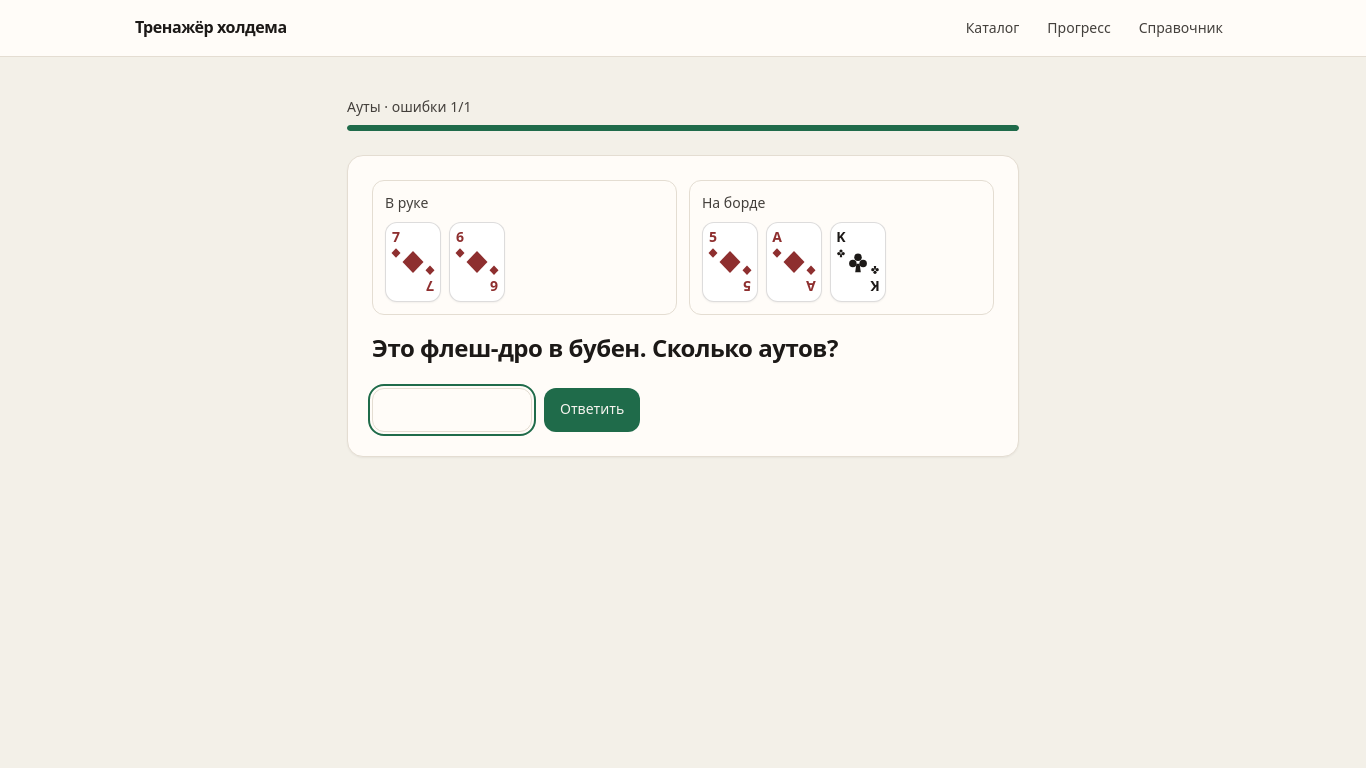
ошибка из очереди остаётся на экране после промаха
Type "1" into the field named "Ответ".
click(452, 410); type("1")  # box [372,388,532,432]
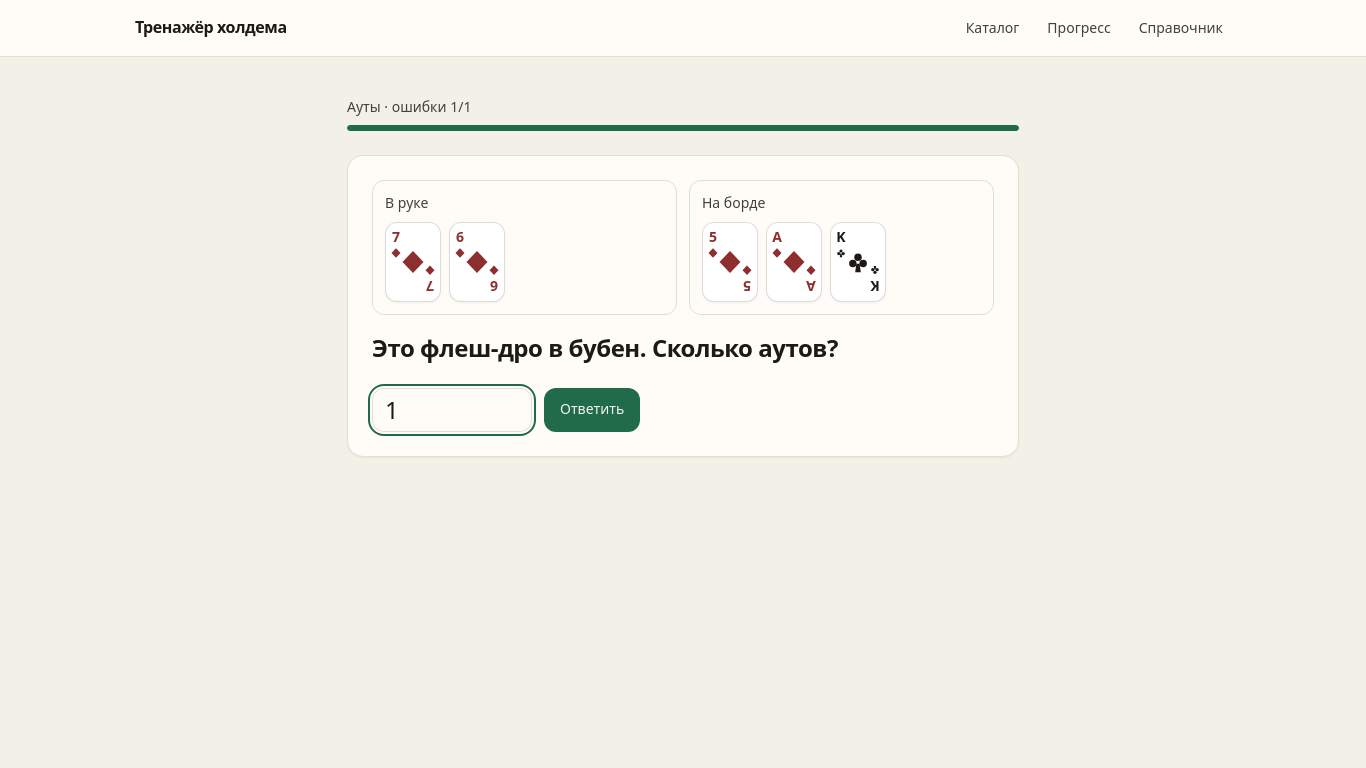
Submit the form labelled "Ответ", box [372,388,640,432]
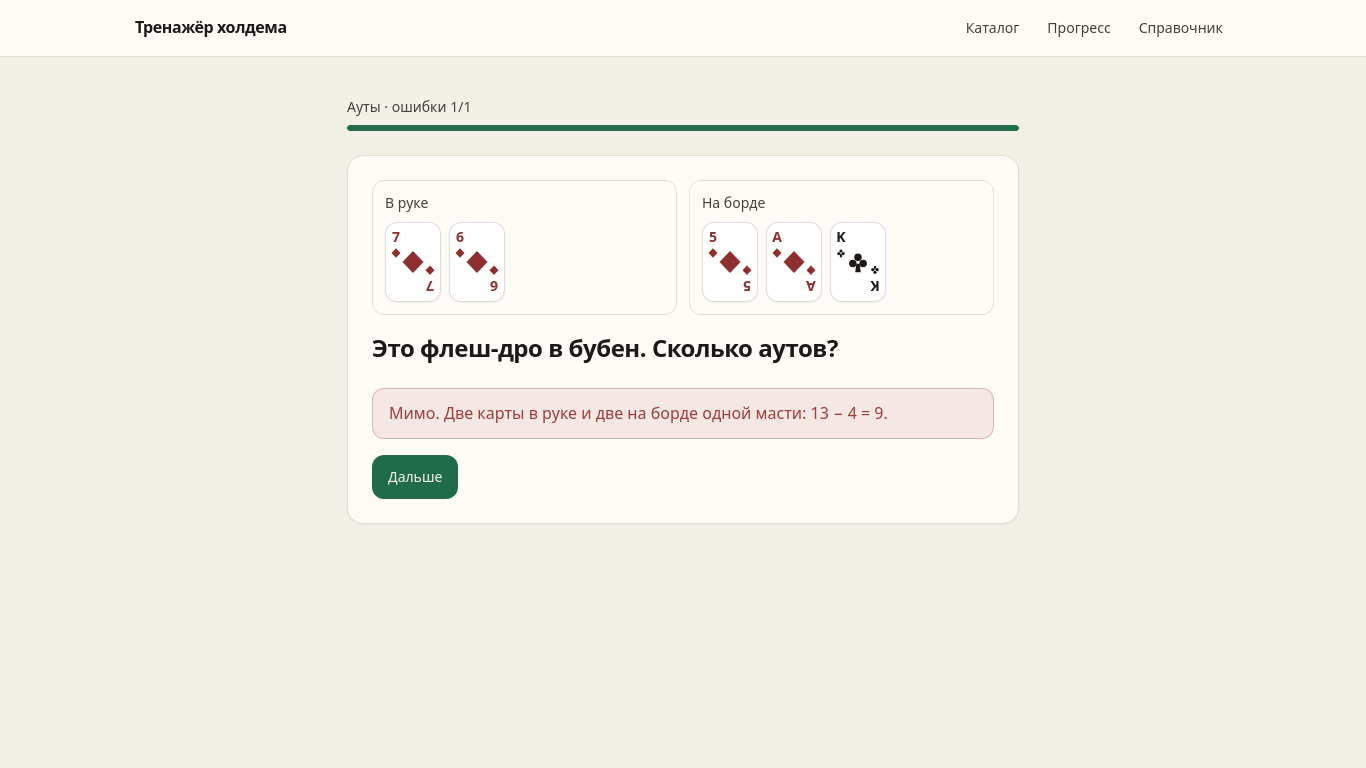
Check: the text "Ауты · ошибки 1/1" is shown, box [347,97,471,116]
Check: the text "Мимо" is shown, box [389,402,444,424]
